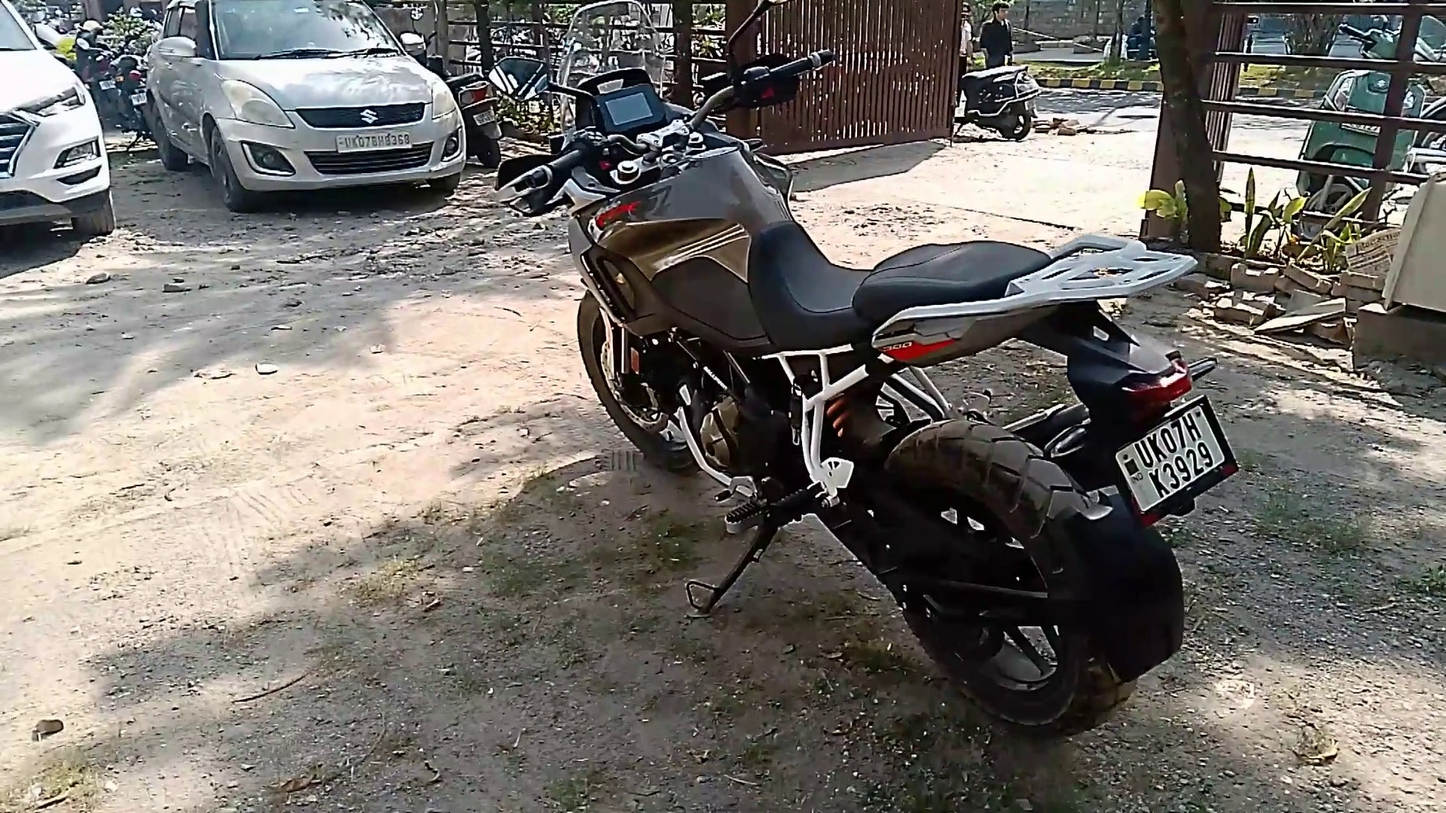engine: (680, 369, 751, 476)
